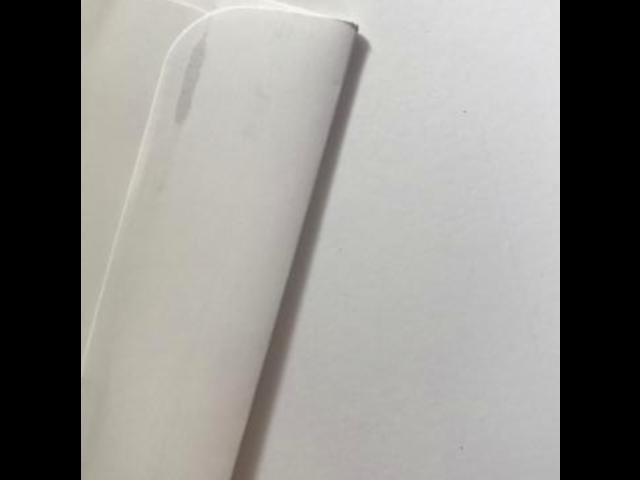cardboard paper: (80, 0, 369, 480)
